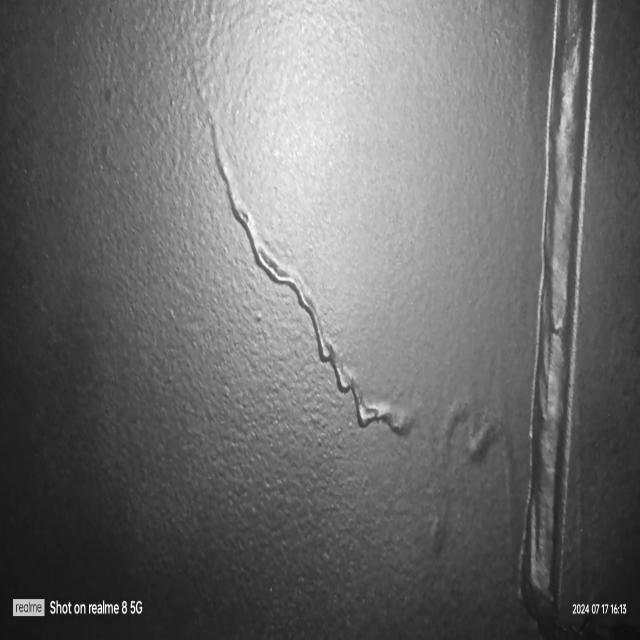paint drips: (190, 55, 419, 469), (420, 374, 520, 617)
